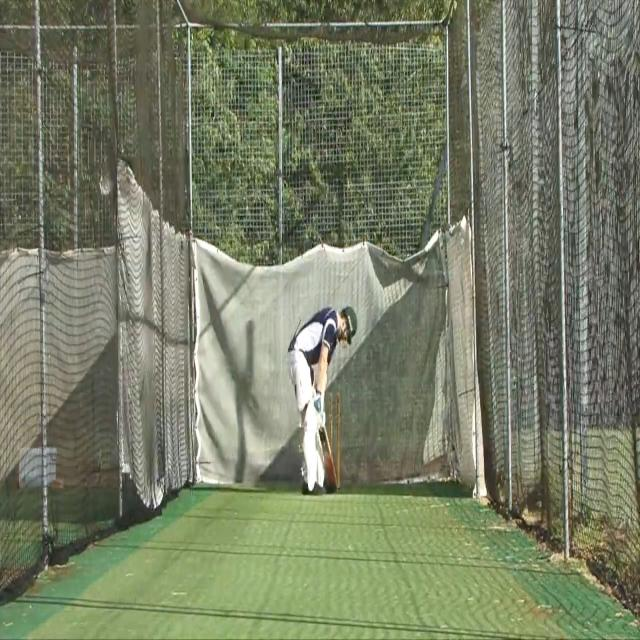batsman: (286, 304, 358, 498)
